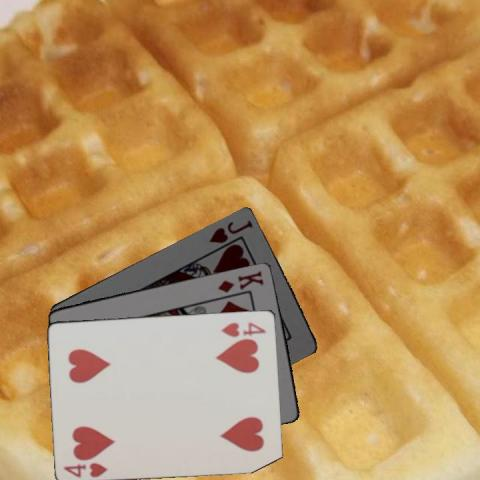4h: (60, 459, 109, 478), (218, 319, 268, 336)
Jh: (206, 216, 255, 244)
Kd: (215, 267, 265, 294)
